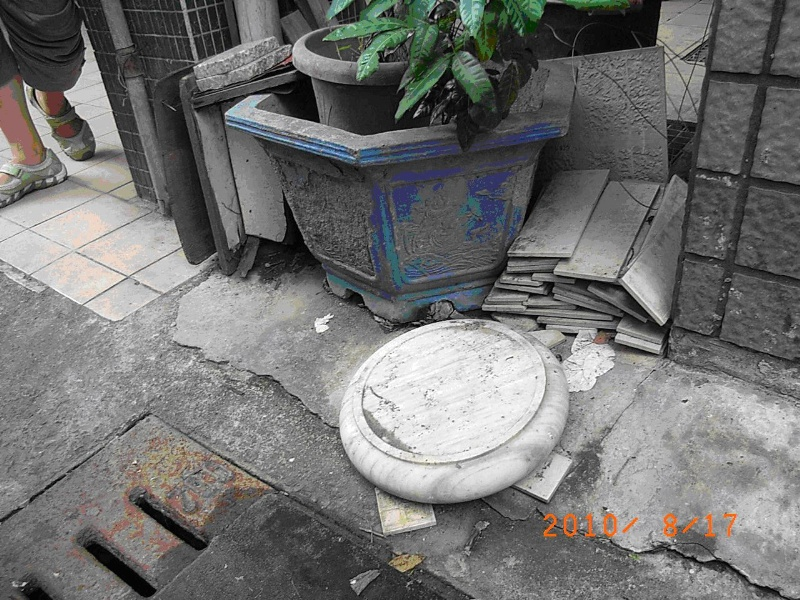bowl: (223, 59, 577, 326), (340, 318, 569, 503)
